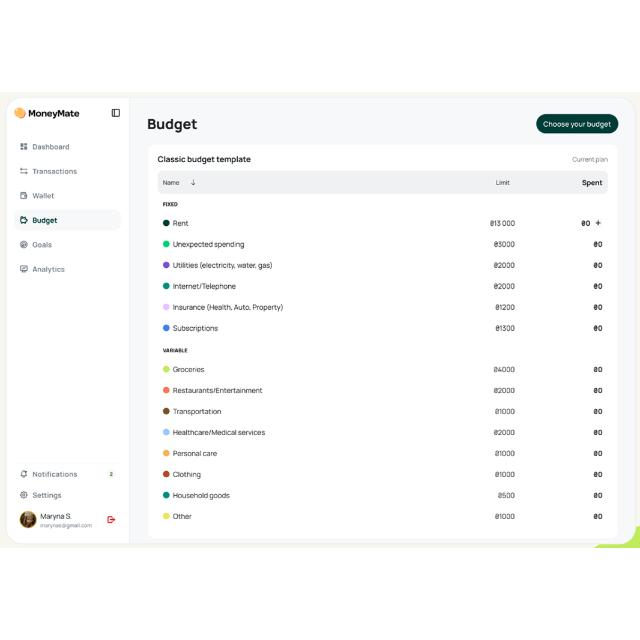QLabel: (157, 156, 250, 164), (146, 118, 198, 132), (543, 121, 611, 129), (572, 156, 608, 164)
QMenu: (5, 96, 131, 546)
VCard: (146, 143, 618, 541)
VChip: (536, 114, 618, 134)
VDataTable: (157, 169, 609, 527)
